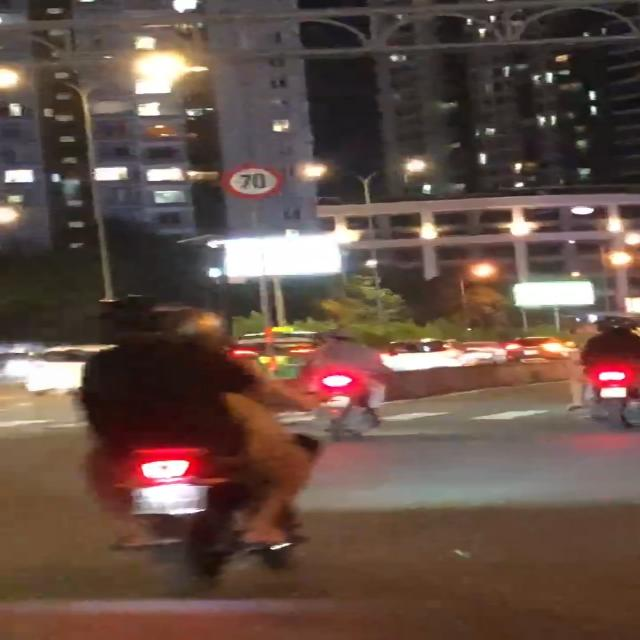Bien bao toc do toi da cho phep: (219, 161, 288, 203)
